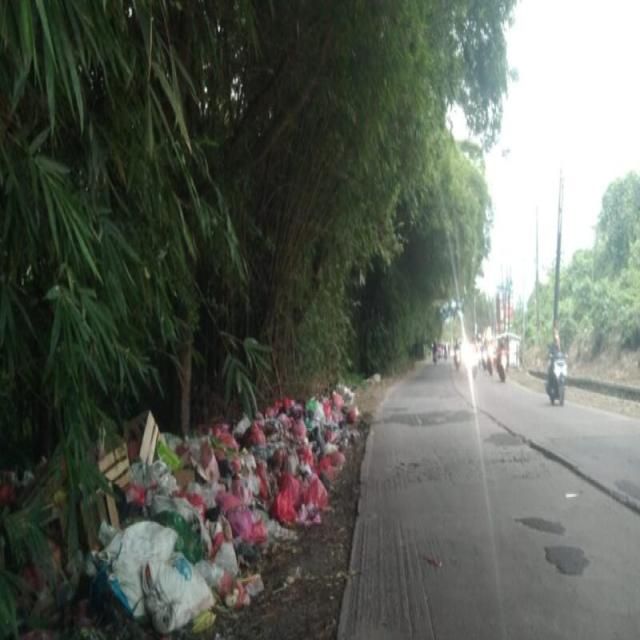trash: (34, 361, 390, 639)
